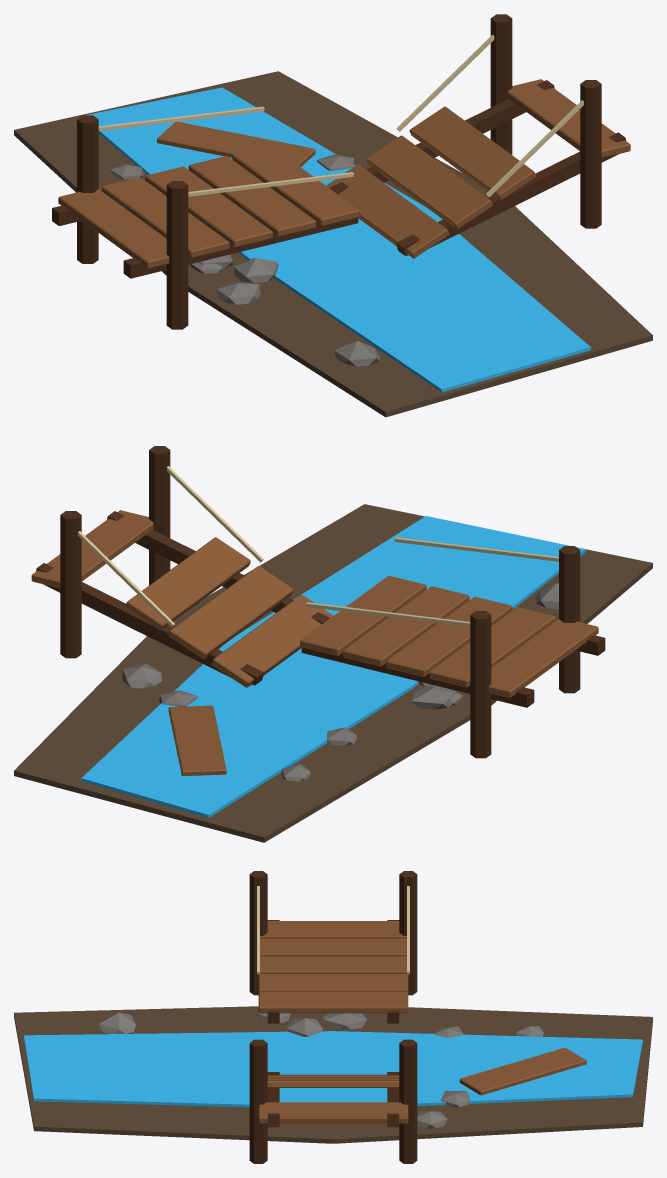
File: jembatan_rusak_v001.glb
3 views of the same model, one above another, from view 1: azimuth 30°, elevation 25°; view 2: azimuth 150°, elevation 25°; view 3: azimuth 270°, elevation 25° (orthographic). The views are drawn at different scales.
Parts seen in each view (by area): view 1: Jembatan_Rusak; view 2: Jembatan_Rusak; view 3: Jembatan_Rusak.
Boxes of the visible parts, bbox=[...] form: Jembatan_Rusak: bbox=[14, 14, 652, 417]; Jembatan_Rusak: bbox=[14, 446, 652, 842]; Jembatan_Rusak: bbox=[14, 871, 652, 1163].
Bounding box in the file's own units: 4.81 × 1.3 × 6.4.
